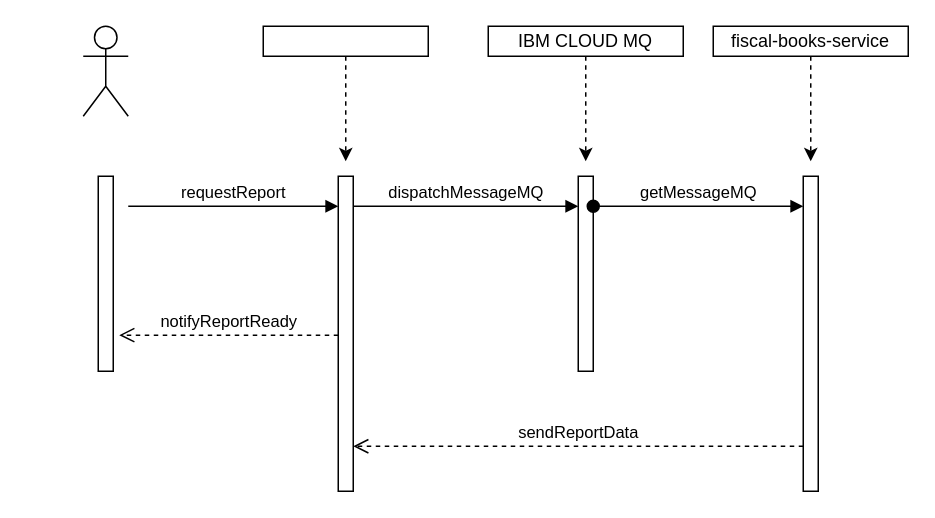
Some shapes in this 935 by 518 pixel diagram are drawn without their labels. Each missing label, with the box of its shape:
Interface do usuário: (82, 25, 128, 116)
tax-calc-relatorio: (262, 25, 428, 56)
